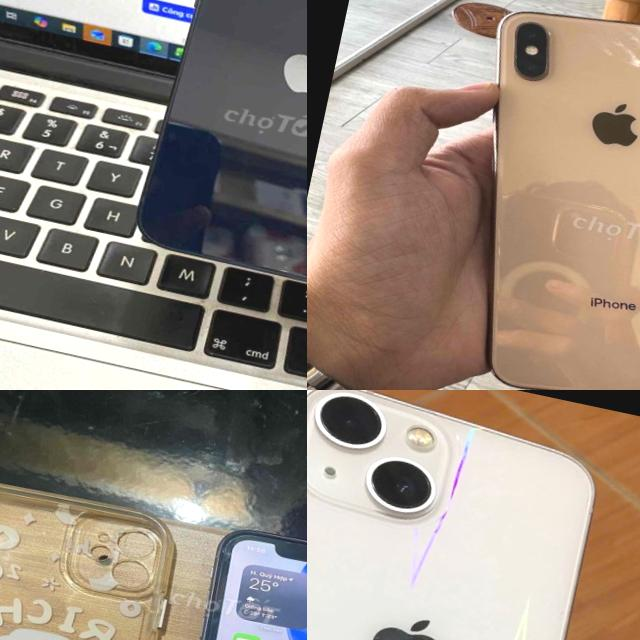gen_11: (146, 509, 307, 640)
gen_12_13: (307, 390, 640, 640), (138, 0, 307, 298)
gen_x_xs: (394, 0, 640, 390)
